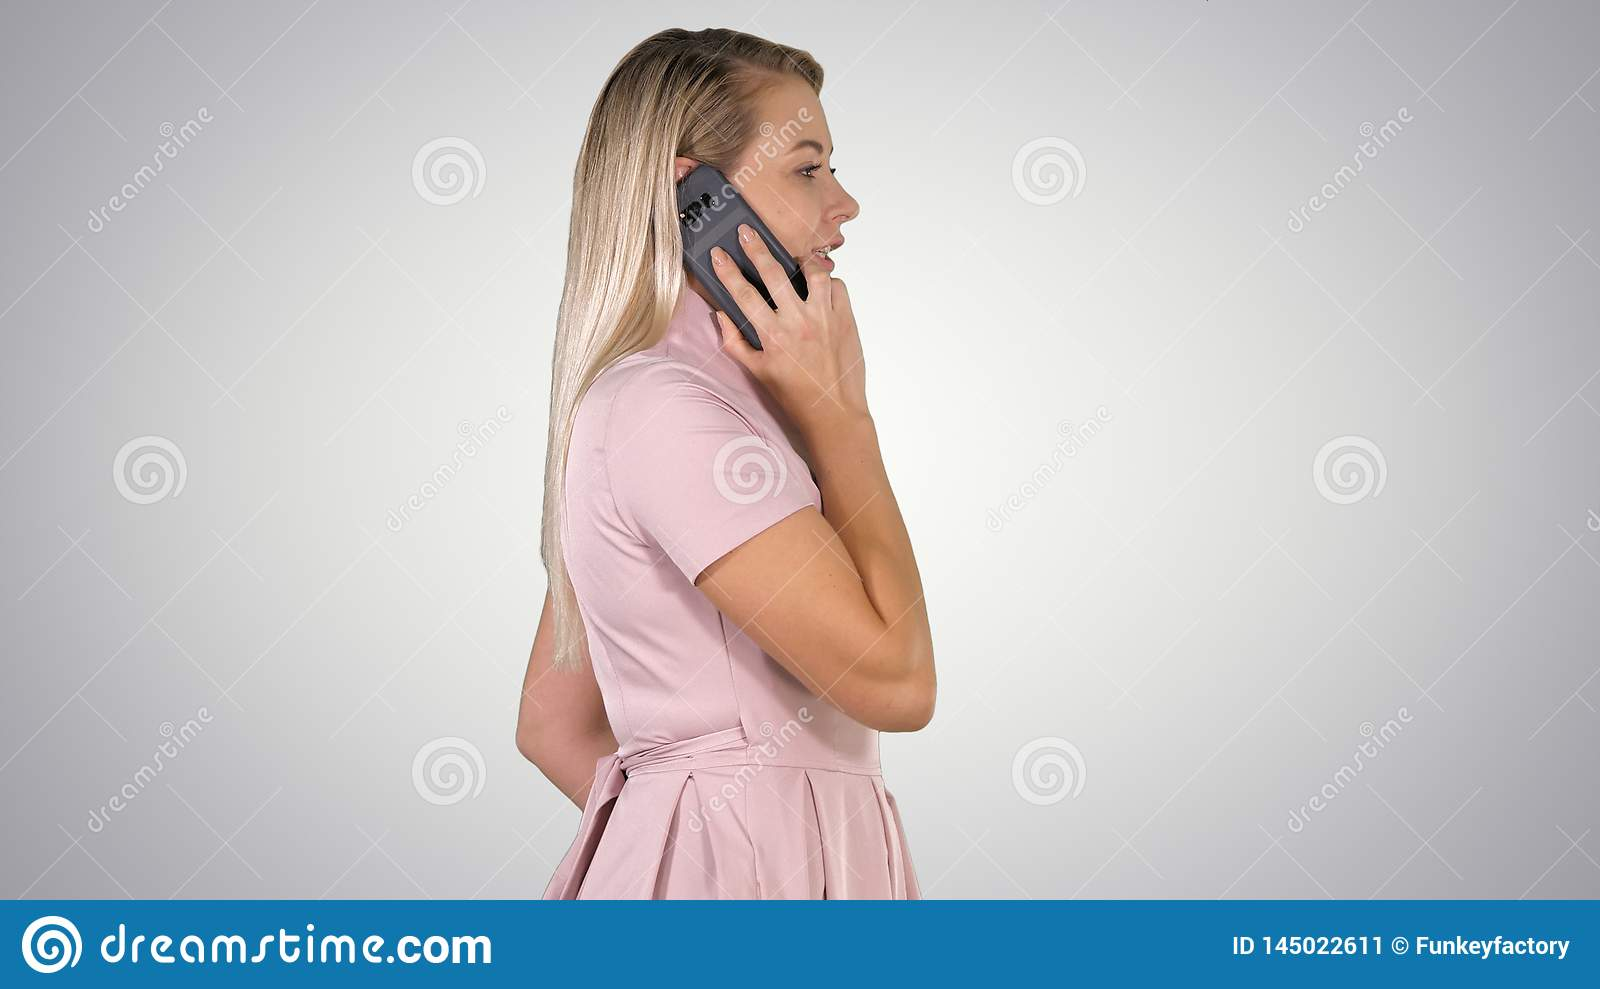phone: (671, 158, 808, 351)
talk: (670, 137, 867, 461)
